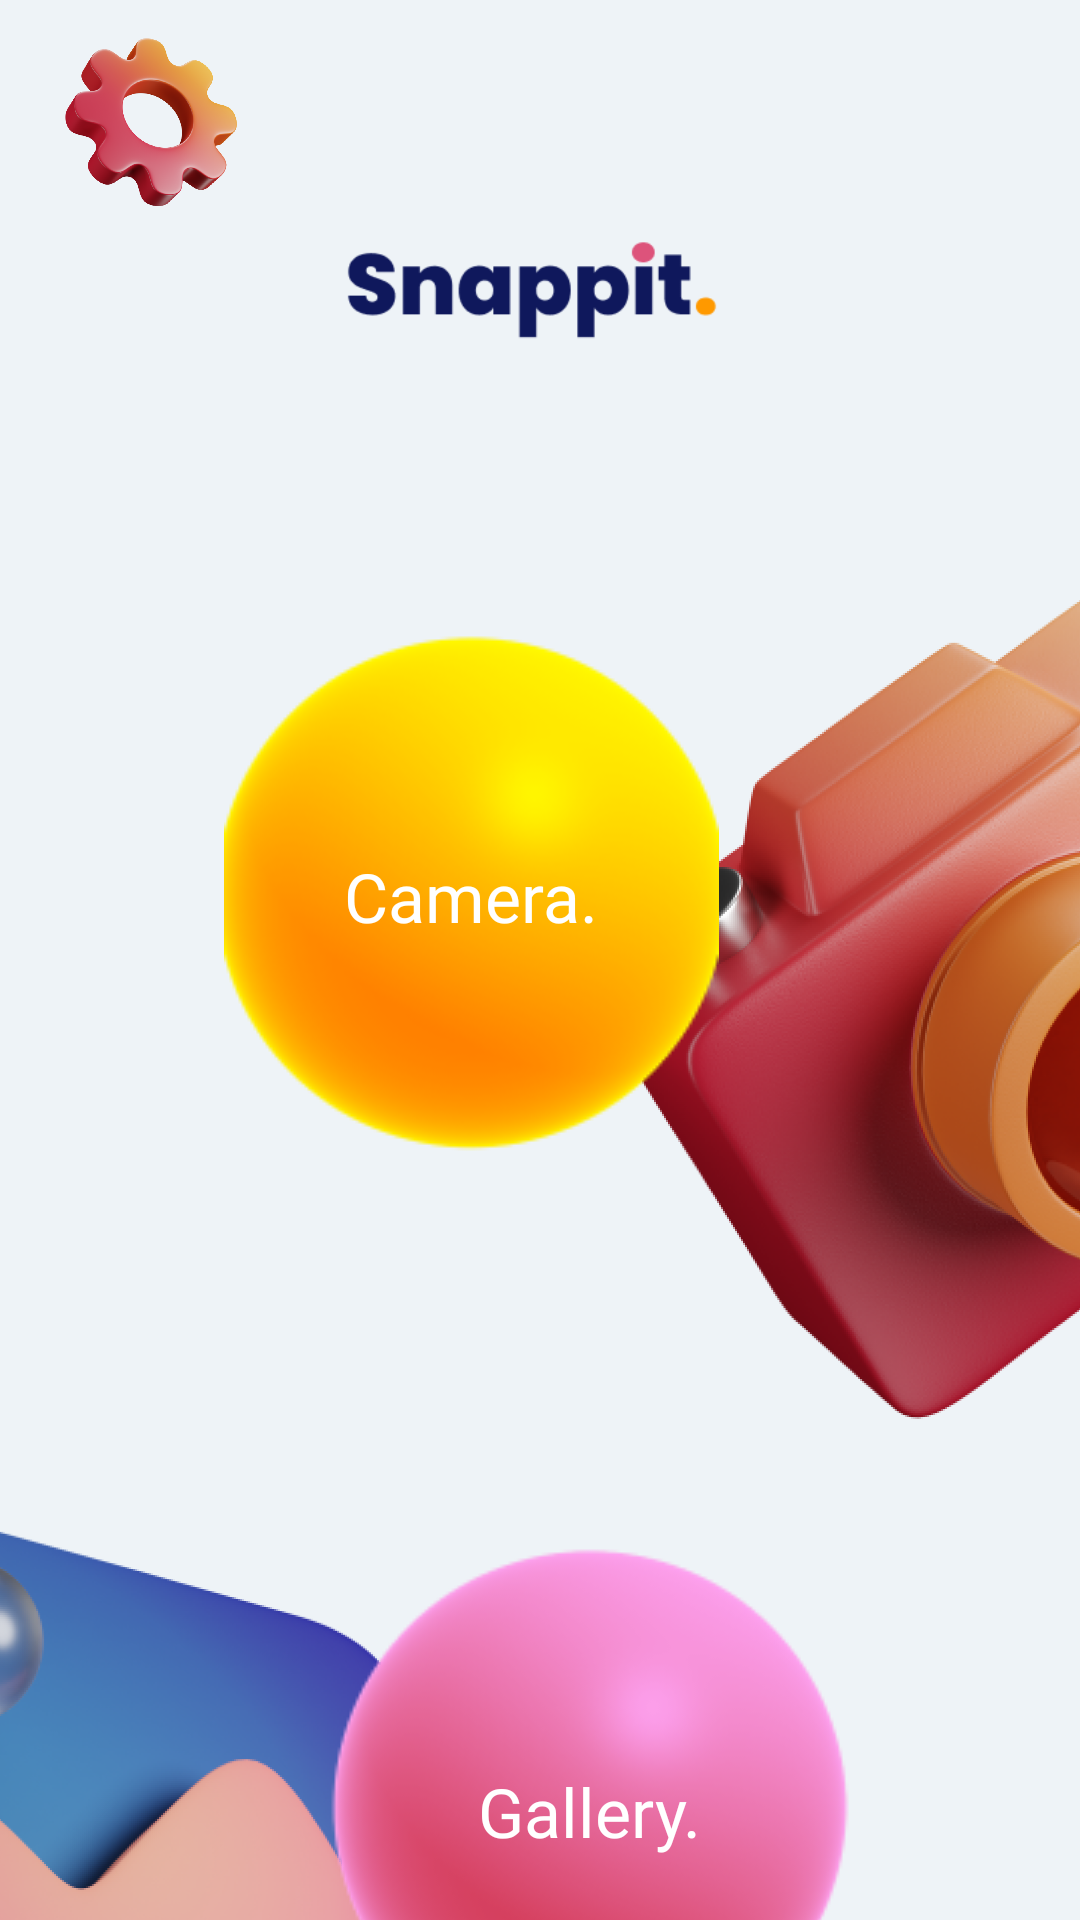

Locate icon controls on the screen. Image size 1080*1920, boxes as (x1, y1, x2, y2).
setting dynamic: (65, 38, 237, 206)
